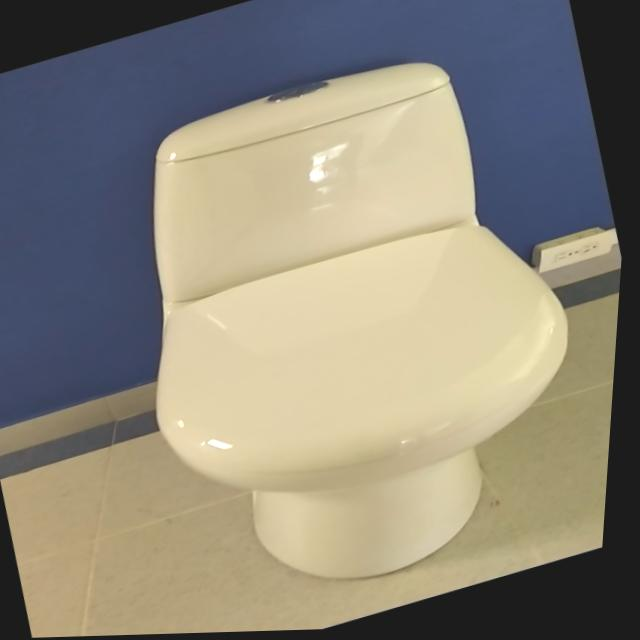toilet: (75, 23, 638, 633)
